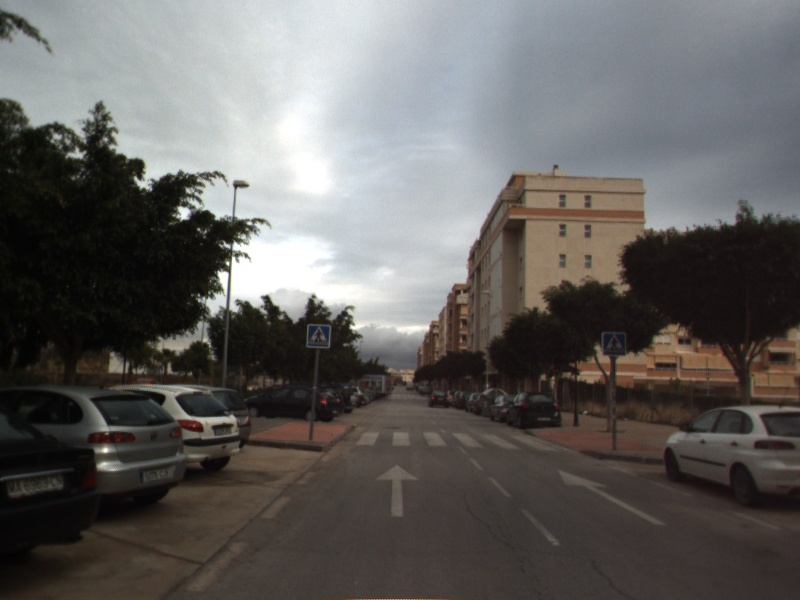STRAIGHT: (557, 468, 669, 527), (374, 463, 421, 519)
